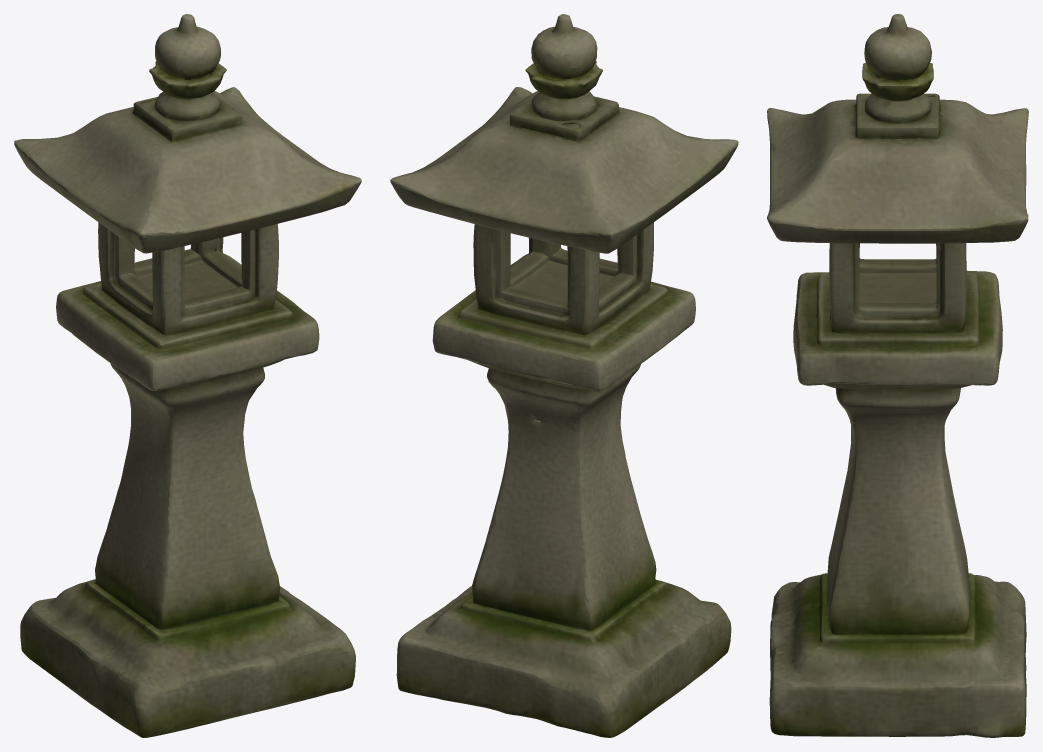
File: PROP-001.glb
The picture shows the model from 3 angles, left to right: view 1: azimuth 30°, elevation 25°; view 2: azimuth 150°, elevation 25°; view 3: azimuth 270°, elevation 25°; orthographic projection. The views are drawn at different scales.
Parts seen in each view (by area): view 1: world; view 2: world; view 3: world.
Part boxes in pixels (x1,y1,x2,y2): world: [14, 14, 361, 737]; world: [390, 14, 738, 737]; world: [767, 14, 1028, 737].
Bounding box in the file's own units: 0.3213 × 0.8999 × 0.3191.
Materials: 1 (1 with a texture image).
